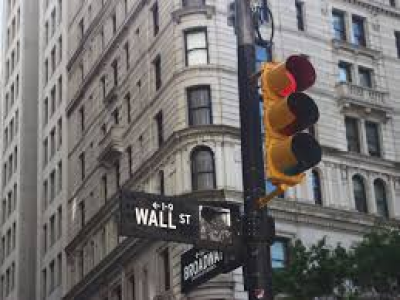trafficlight_red: (265, 59, 319, 174)
